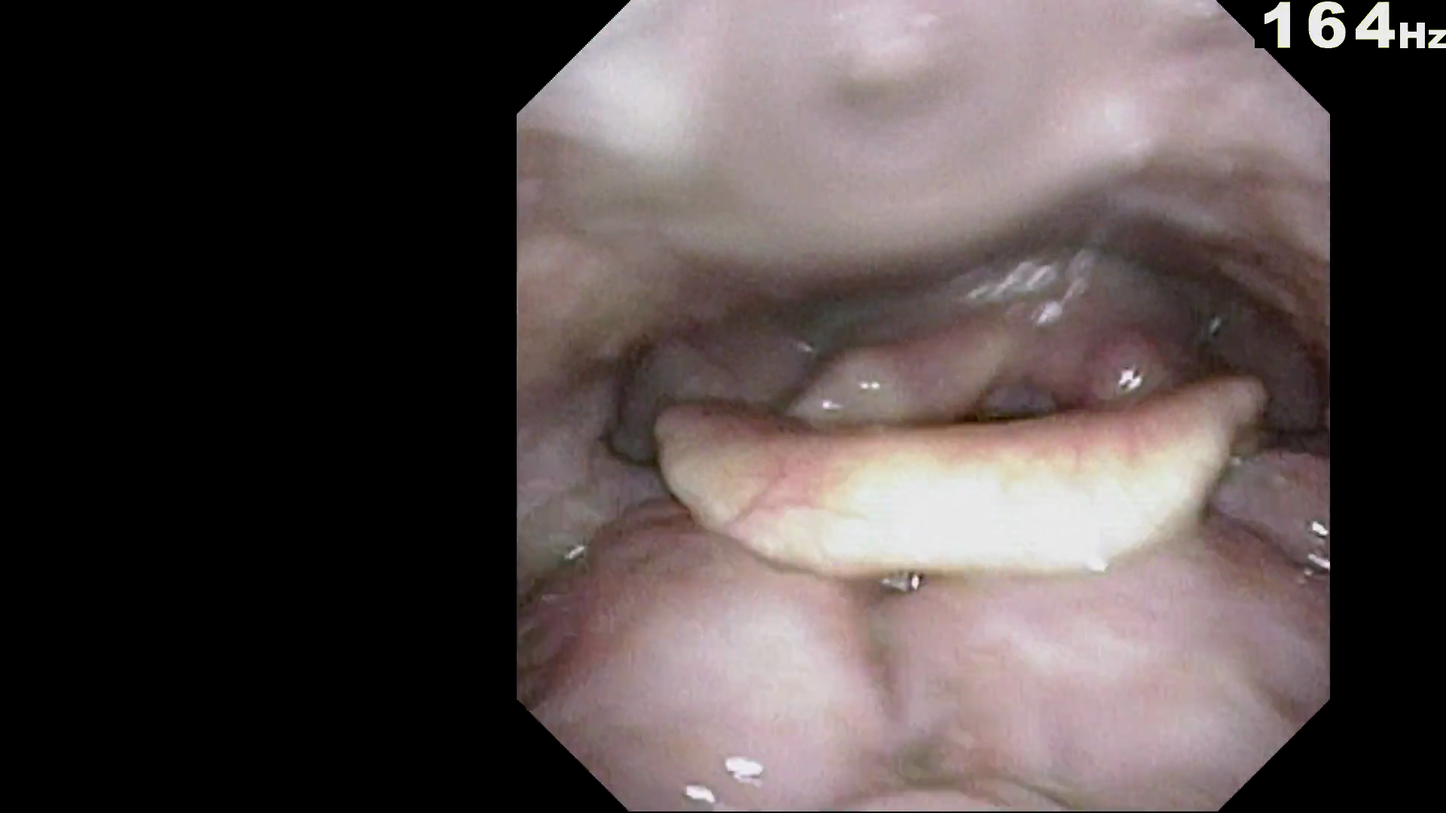epiglottis: (665, 436, 1265, 580)
